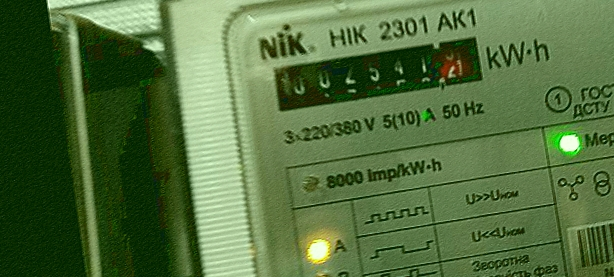0: (287, 69, 308, 97), (314, 63, 332, 92)
1: (413, 47, 430, 75)
2: (338, 59, 357, 86)
4: (389, 51, 405, 76)
5: (363, 54, 384, 85)
6: (442, 60, 459, 79)
screen: (258, 21, 499, 124)
